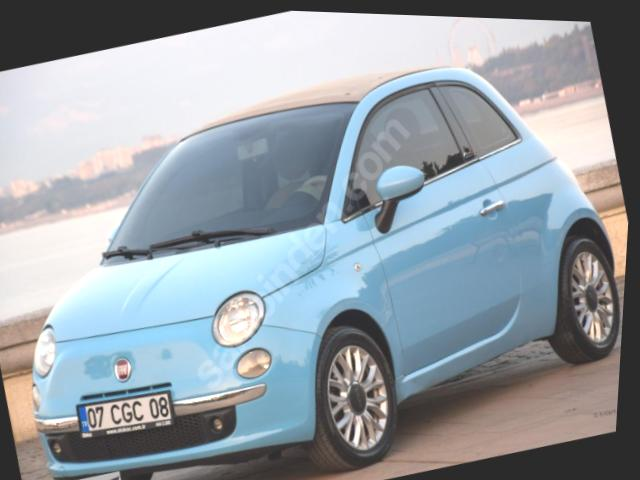plaka: (77, 391, 173, 437)
